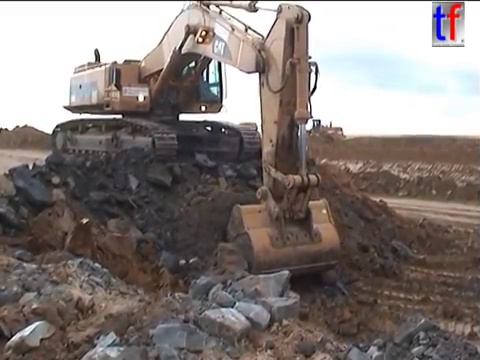excavator: (47, 1, 344, 284)
wheel loader: (293, 117, 345, 142)
